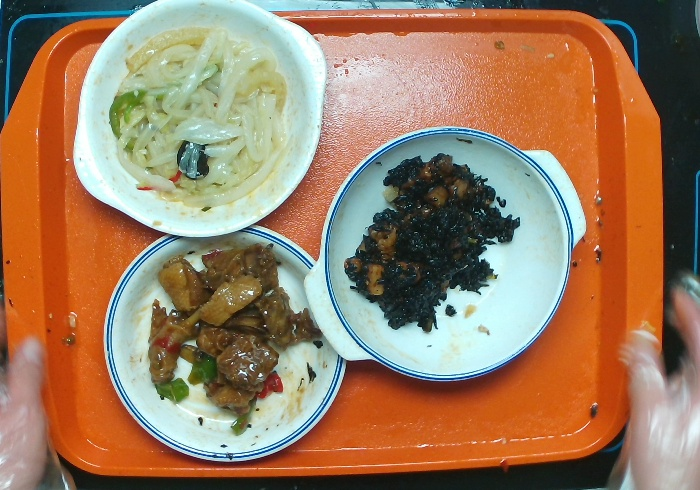HZYJPL-Dai_Er_Bai_Yuan_Wan: (64, 1, 333, 239)
HZYJPL-Lan_Bian_Dai_Er_Wan: (298, 120, 592, 393)
HZYJPL-Lan_Bian_Yuan_Die: (99, 215, 351, 468)
